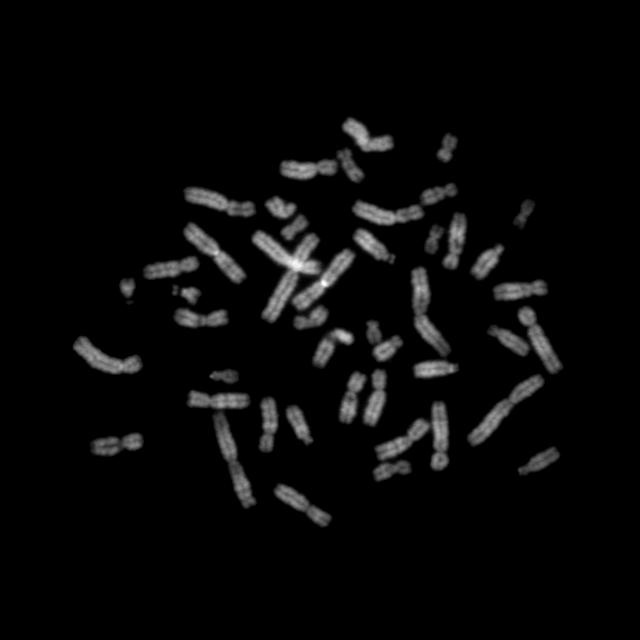chromosome: (468, 376, 544, 446), (262, 234, 318, 324), (212, 412, 256, 508), (184, 222, 246, 284), (292, 250, 356, 310), (412, 267, 451, 357), (252, 231, 322, 275), (519, 306, 563, 374), (73, 336, 142, 374), (274, 484, 332, 526), (376, 418, 428, 460), (184, 187, 256, 217), (352, 200, 424, 226), (342, 118, 393, 152), (312, 328, 353, 369), (354, 228, 396, 266), (430, 400, 450, 470), (340, 371, 366, 424), (487, 324, 529, 356), (145, 256, 200, 280), (364, 369, 386, 427), (444, 212, 466, 270), (470, 243, 504, 280), (91, 433, 143, 457), (518, 446, 560, 474), (279, 159, 336, 179), (286, 406, 314, 446), (188, 391, 250, 409), (174, 308, 228, 328), (494, 280, 548, 300), (258, 397, 277, 453), (338, 149, 364, 183), (414, 360, 460, 378), (372, 335, 403, 361), (372, 461, 412, 481), (421, 183, 457, 205), (294, 306, 328, 328), (512, 198, 534, 230), (282, 214, 308, 240), (266, 196, 296, 218), (424, 224, 444, 253), (172, 285, 200, 305), (438, 134, 458, 162), (209, 369, 239, 383), (120, 278, 135, 304), (366, 321, 382, 344)
